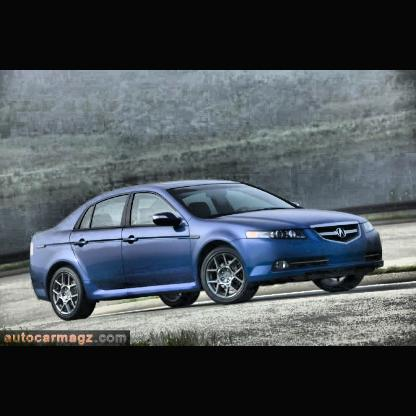Acura TL Type-S 2008: (28, 180, 384, 322)
